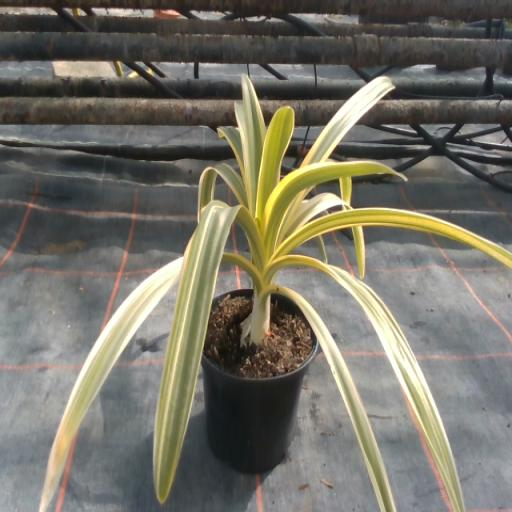Agapanthus-praecox: (284, 255, 465, 511), (39, 257, 182, 511), (154, 201, 264, 502), (271, 286, 395, 511), (270, 208, 511, 268), (263, 161, 395, 249), (303, 77, 393, 164), (256, 107, 294, 219), (243, 75, 266, 206), (198, 163, 246, 219), (234, 103, 253, 212), (292, 193, 351, 227), (219, 126, 244, 178), (353, 227, 365, 277)
